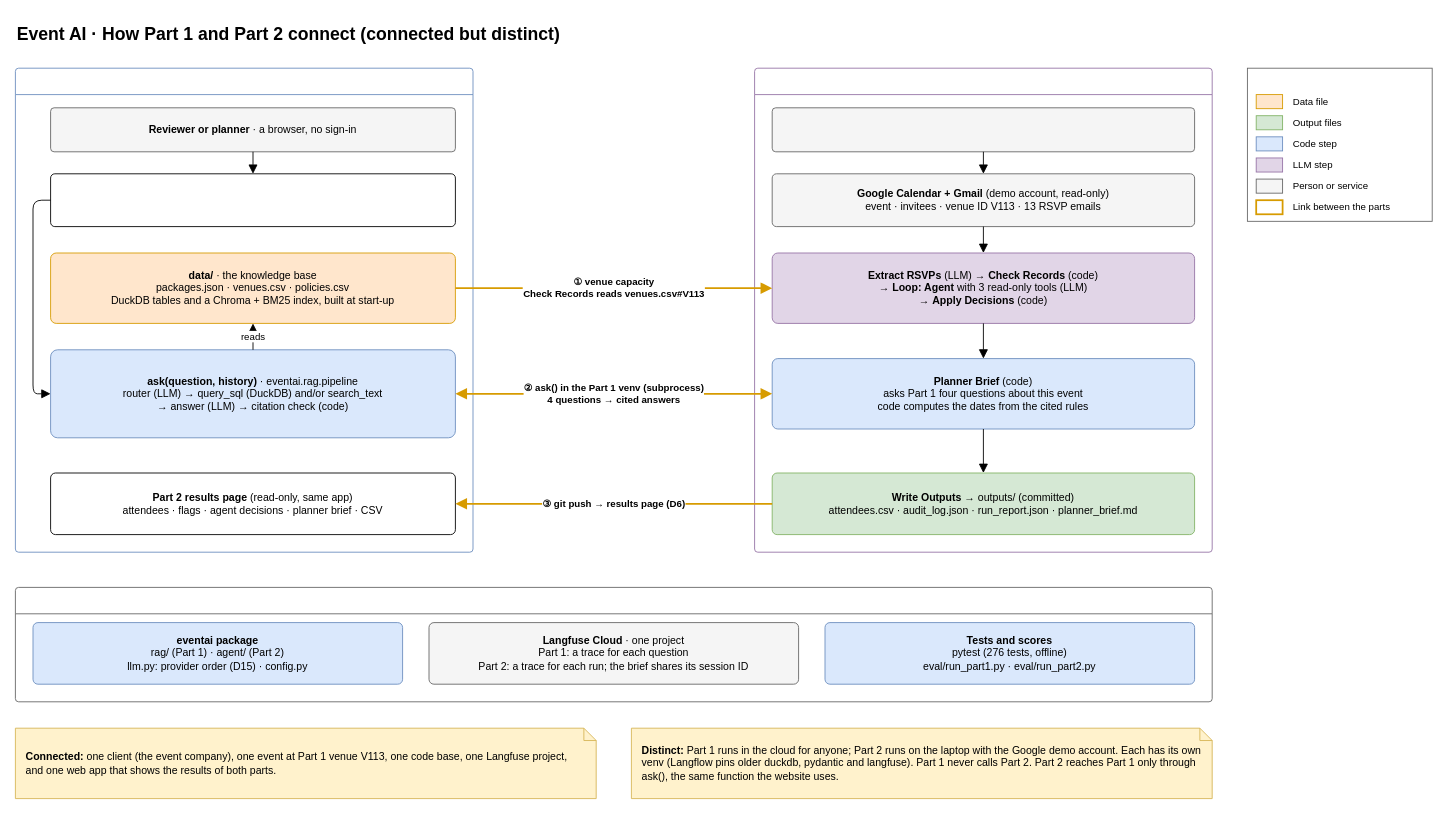
Some shapes in this 1448 by 814 pixel diagram are drawn without their labels. The shapes that lost their labels are listed below. From the top down, each one's box as (x1, y1, x2, y2) in pixels, then its label:
(771, 107, 1195, 152): Planner starts a run · Langflow Playground: partnersummit2026
(1247, 67, 1432, 221): Legend
(50, 173, 455, 227): Chat page · Knowledge base page
(15, 67, 473, 552): Part 1 · RAG app · Streamlit Community Cloud (public link)
(754, 67, 1212, 552): Part 2 · attendee-list agent · Langflow on the laptop
(15, 587, 1212, 702): Shared · one repository
